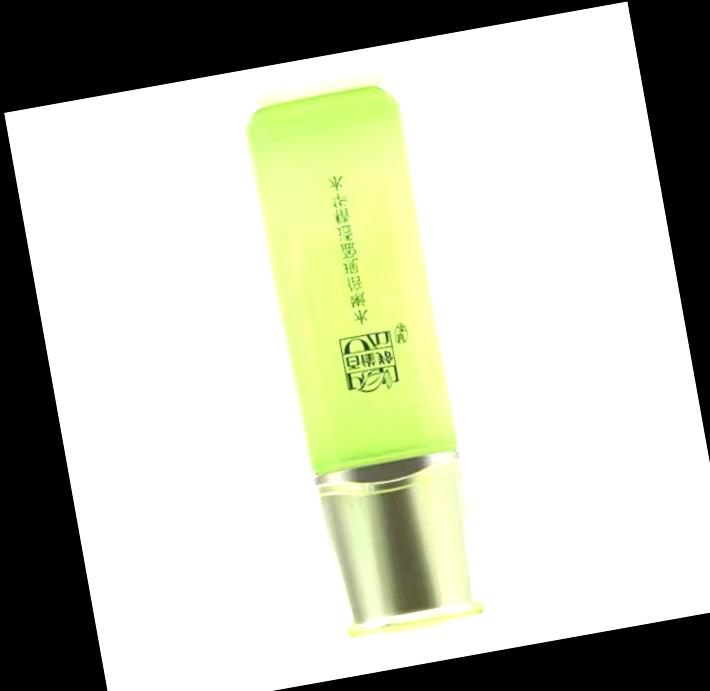cosmetic: (249, 94, 494, 644)
